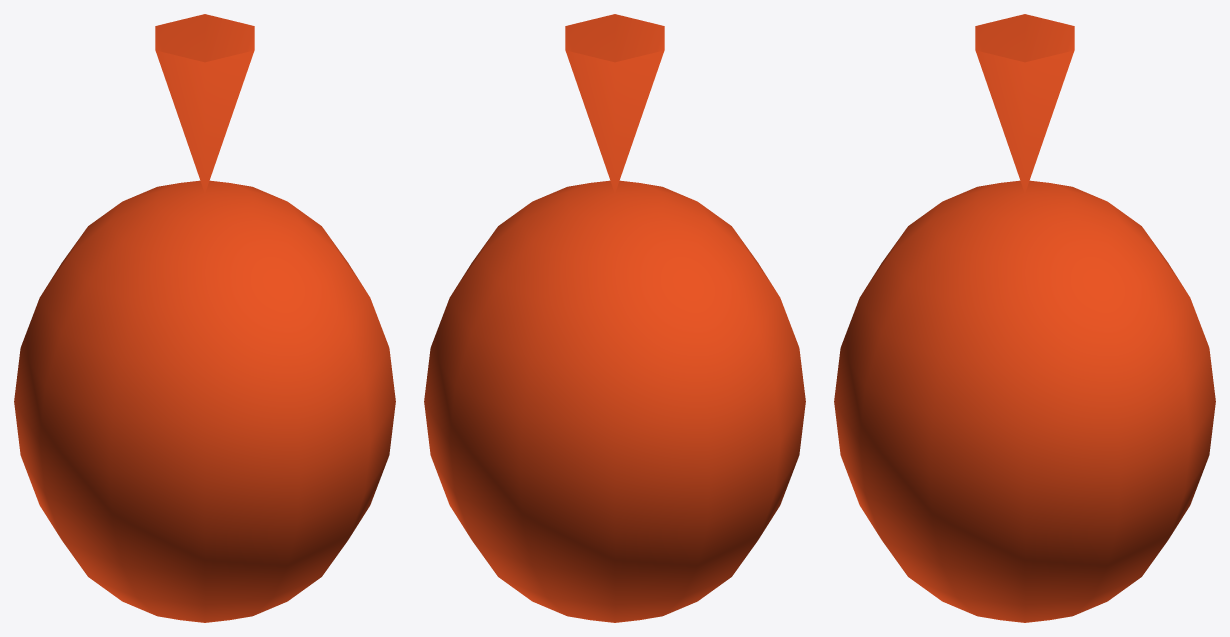
File: Magmaterra_stage2.obj
3 renders of one model, left to right at view 1: azimuth 30°, elevation 25°; view 2: azimuth 150°, elevation 25°; view 3: azimuth 270°, elevation 25°, orthographic.
Bounding box in the file's own units: 2 × 3.3 × 2.
